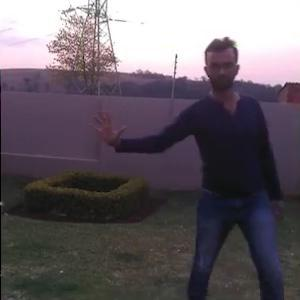follow_hand: (87, 107, 128, 147)
